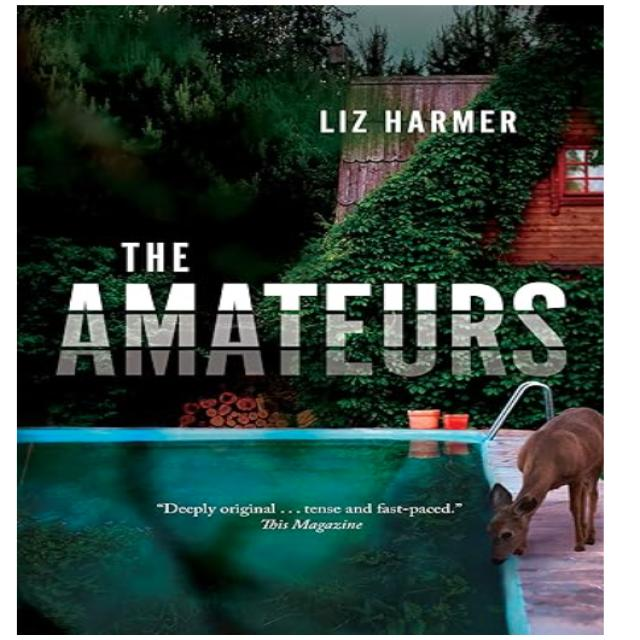titles-or-authors: (47, 235, 580, 390), (310, 100, 530, 142)
